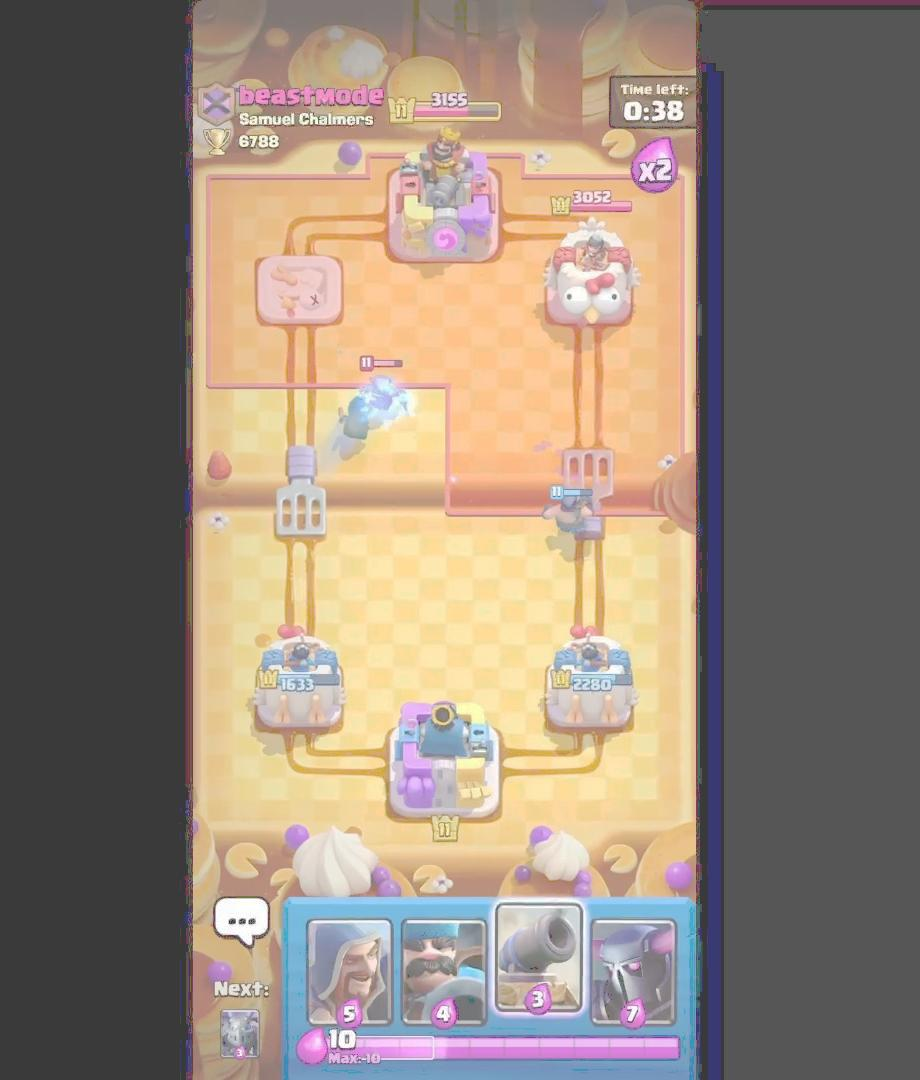Mini Pekka: (359, 357, 406, 418)
